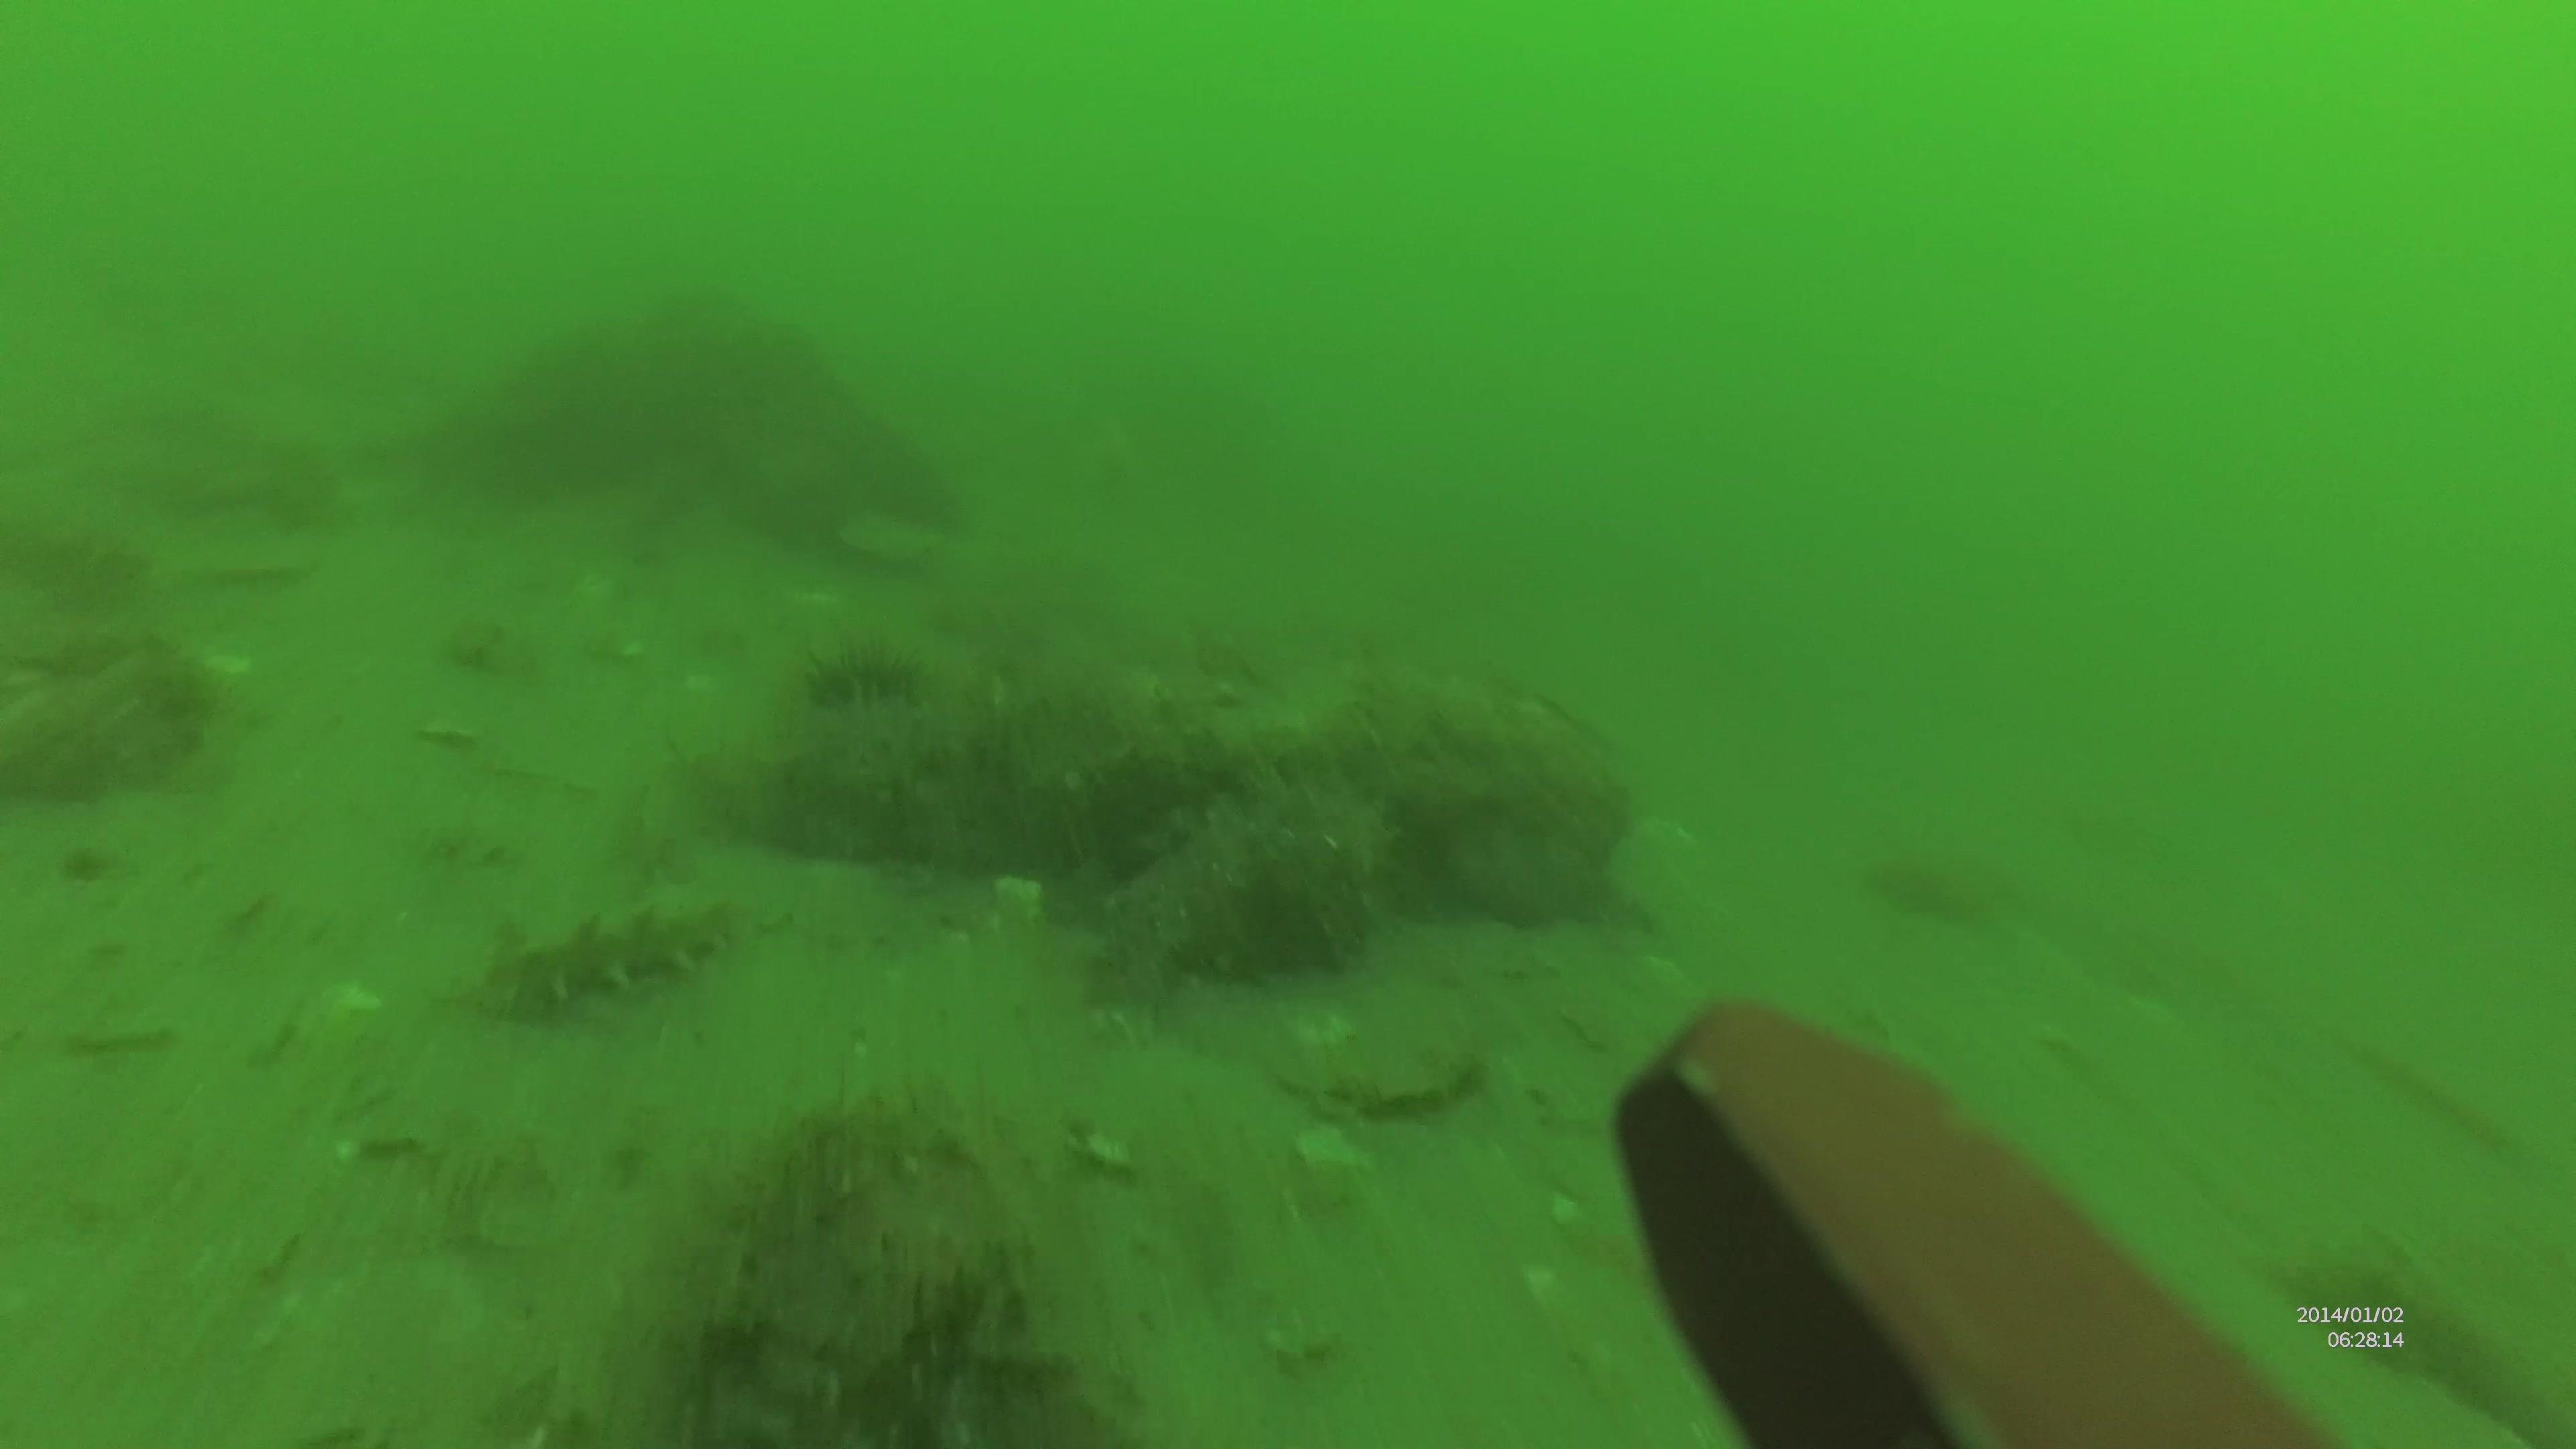echinus: (793, 639, 916, 718)
holothurian: (441, 893, 743, 1017)
